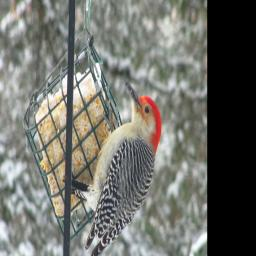Woodpecker: (67, 84, 162, 256)
